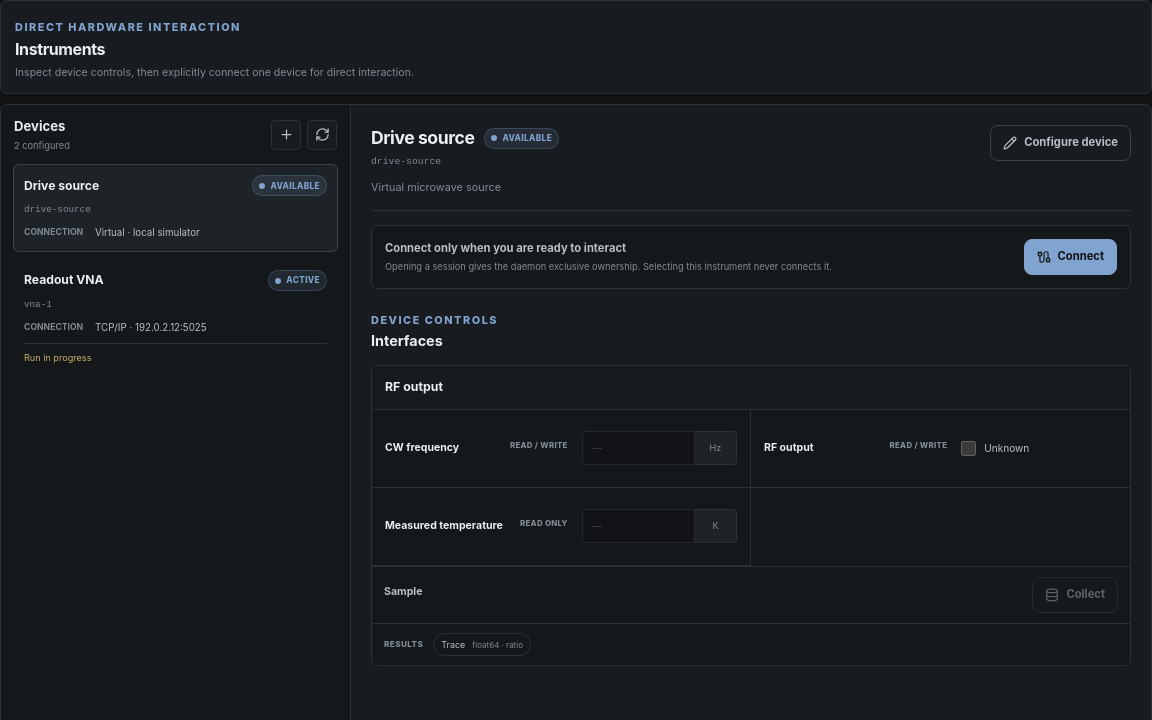
Test: instrument workspace › lists connection and ownership without exposing internal identity
The width and height of the screenshot is (1152, 720).
Expected: the text "Drive source" is shown, left=24, top=177, right=99, bottom=195
Expected: the text "Virtual · local simulator" is shown, left=95, top=227, right=200, bottom=238
Click the button titled "Inspect instrument vna-1" at {"x": 64, "y": 280}, box left=13, top=259, right=338, bottom=375
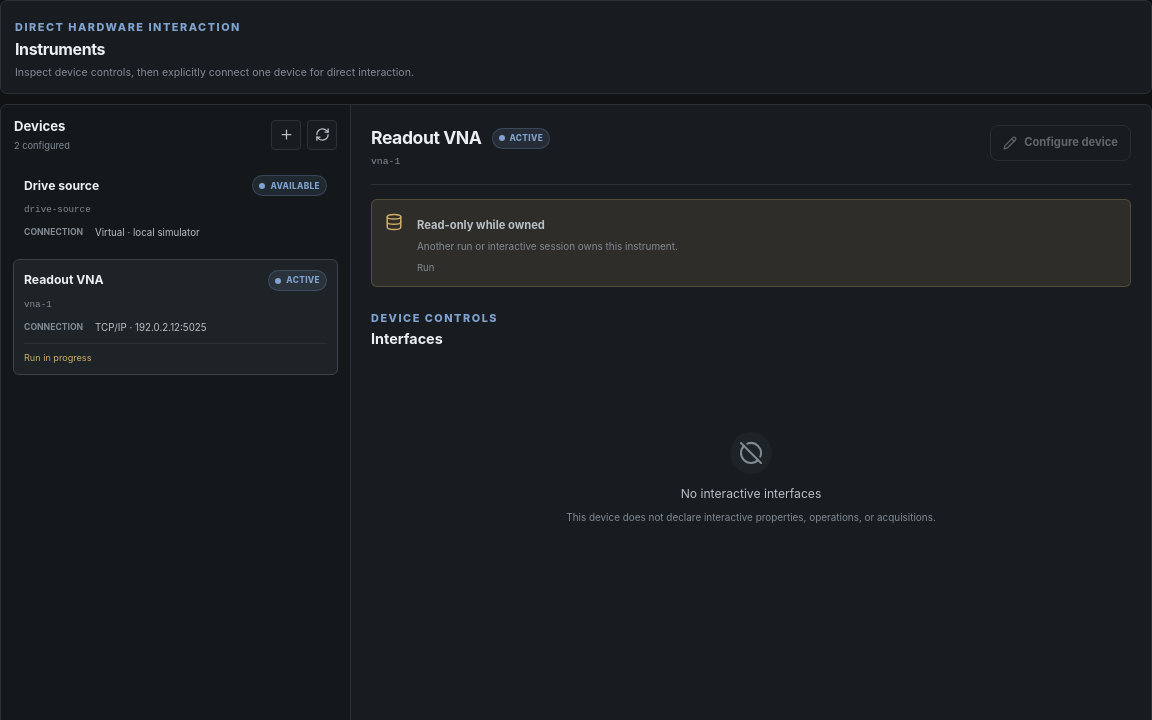
Result: the text "Read-only while owned" is shown at left=417, top=218, right=545, bottom=232
Result: the button "Configure device" is disabled at left=990, top=125, right=1131, bottom=161
